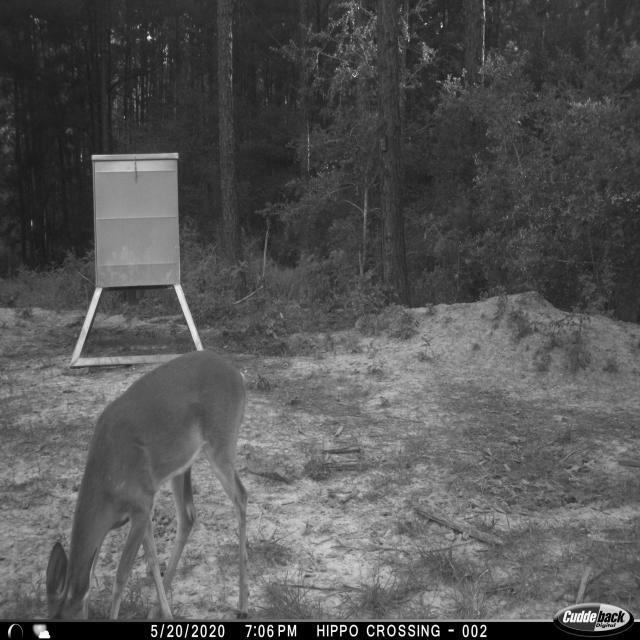Deer: (38, 347, 254, 617)
